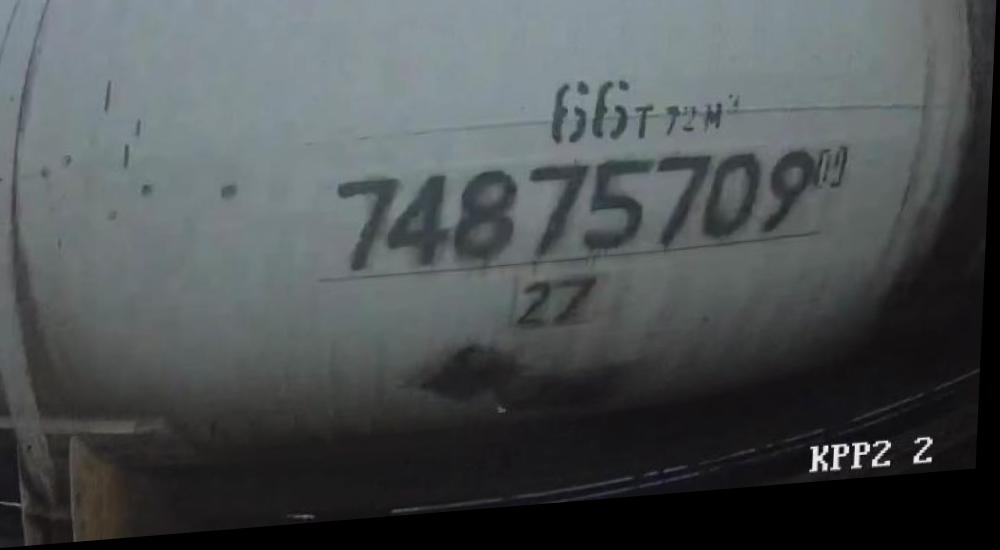Wagon-number: (334, 149, 820, 282)
